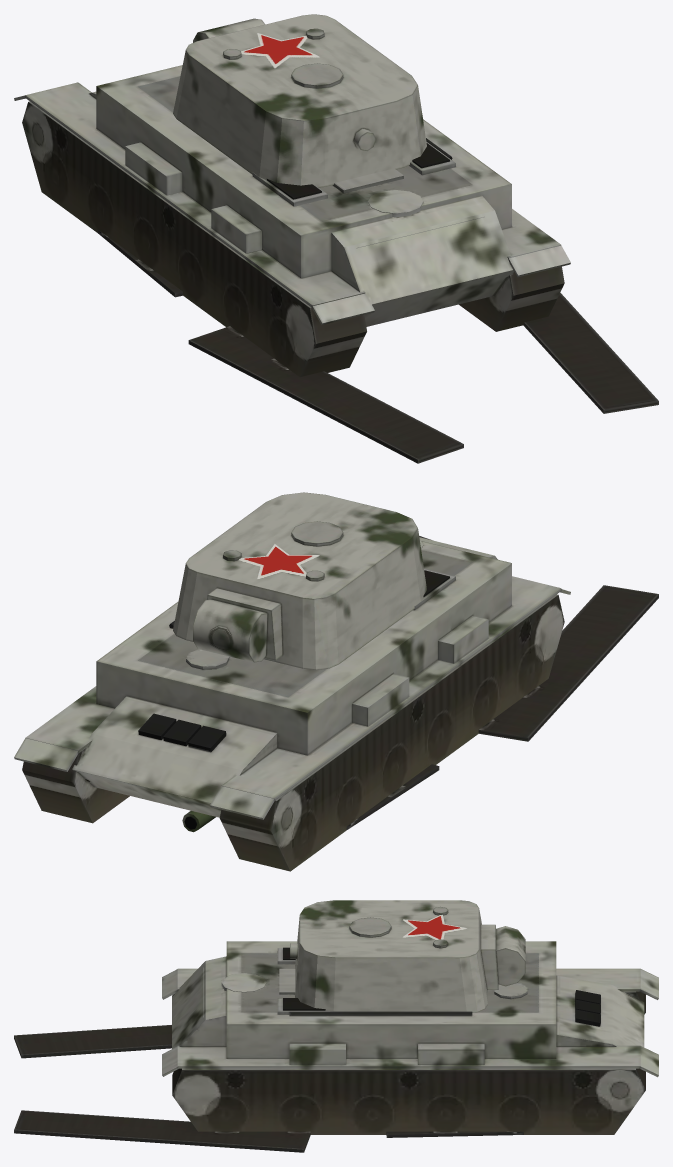
File: kv1_winter.glb
The picture shows the model from 3 angles, top to bottom: view 1: azimuth 30°, elevation 25°; view 2: azimuth 150°, elevation 25°; view 3: azimuth 270°, elevation 25°; orthographic projection. The views are drawn at different scales.
Parts seen in each view (by area): view 1: hull_ok, turret_ok, hull_trackL, hull_trackR; view 2: hull_ok, turret_ok, hull_trackL; view 3: hull_ok, turret_ok, hull_trackR, hull_trackL.
Boxes of the visible parts, box(x1,y1,x2,y2) form: hull_ok: box(14, 65, 570, 376); turret_ok: box(173, 14, 426, 187); hull_trackL: box(97, 229, 463, 463); hull_trackR: box(523, 292, 658, 413); hull_ok: box(14, 537, 570, 871); turret_ok: box(173, 492, 426, 669); hull_trackL: box(346, 585, 658, 829); hull_ok: box(162, 941, 658, 1134); turret_ok: box(290, 900, 525, 1012); hull_trackR: box(14, 1110, 523, 1152); hull_trackL: box(14, 1025, 171, 1058).
Size of the model in its own units: 4.51 by 2.85 by 9.19.
11 materials, 11 textured.
